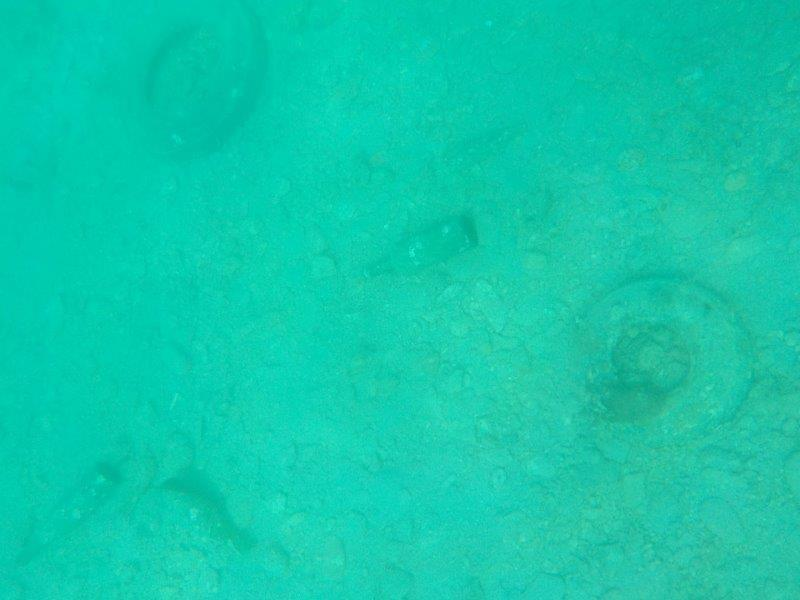bottle: (8, 453, 124, 577), (352, 211, 483, 287), (153, 473, 255, 561)
tire: (562, 269, 762, 461), (107, 1, 273, 162)
